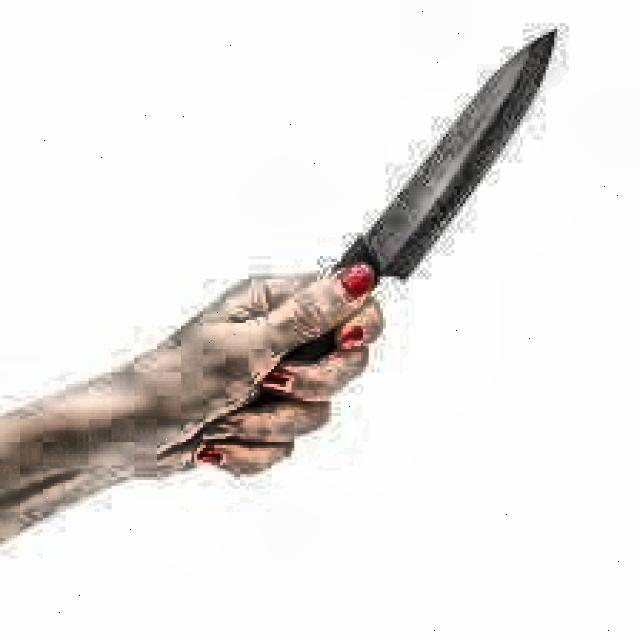knife: (256, 30, 559, 415)
